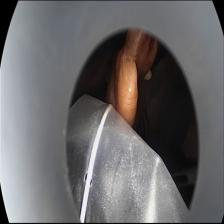Specimen Bag: (59, 94, 191, 224)
